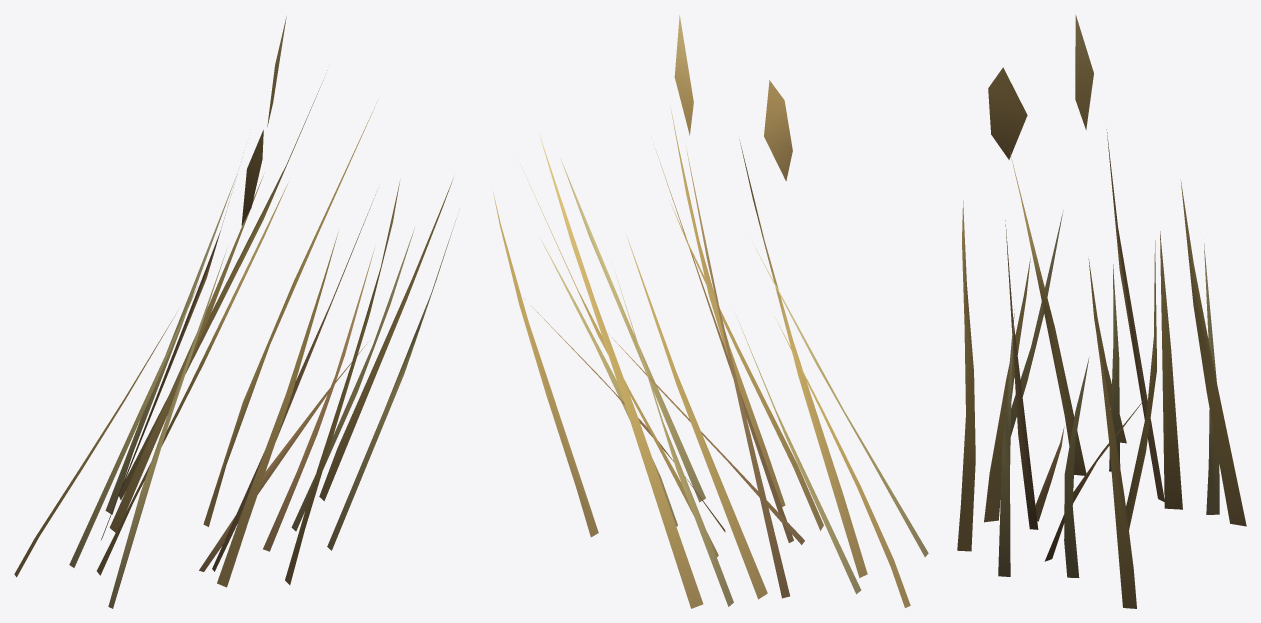
Rendered from DryTuftFan_LOD1.glb.
3 renders of one model, left to right at view 1: azimuth 30°, elevation 25°; view 2: azimuth 150°, elevation 25°; view 3: azimuth 270°, elevation 25°, orthographic. The views are drawn at different scales.
Parts seen in each view (by area): view 1: DryTuftFan_LOD1; view 2: DryTuftFan_LOD1; view 3: DryTuftFan_LOD1.
Part boxes in pixels (x1,y1,x2,y2): DryTuftFan_LOD1: (14,16,456,608); DryTuftFan_LOD1: (493,15,928,608); DryTuftFan_LOD1: (957,15,1246,608).
Size of the model in its own units: 0.2405 by 0.2786 by 0.1294.
